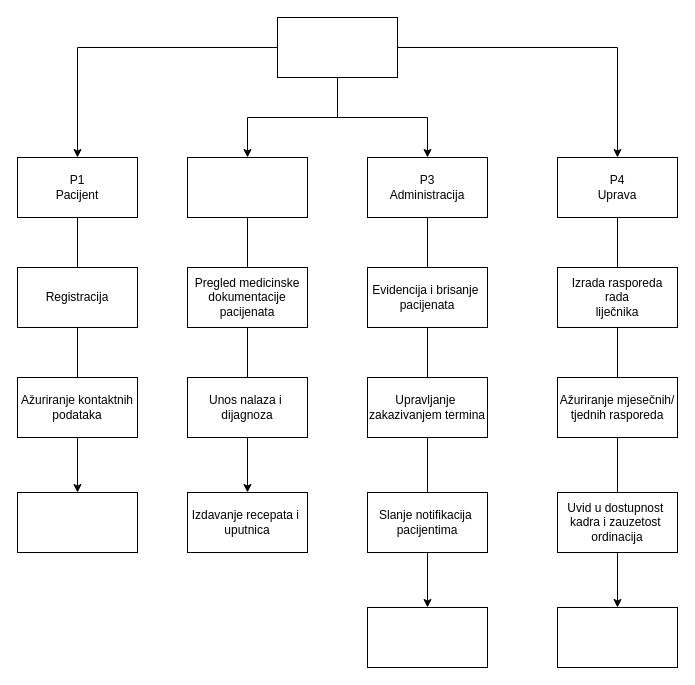
This 695x685 diagram has some shape labels left out. Here are the shapes that lost their labels. From the top down, the centre of each, then its label:
At pixel 337 47: "P0 Informacijski sustav Doma zdravlja".
At pixel 247 187: "P2 Liječnik".
At pixel 77 522: "Pregled zakazanih termina".
At pixel 427 637: "Upravljanje obavijestima i bilješkama za osoblje".
At pixel 617 637: "Evidencija zamjena i odsutnost liječnika".
